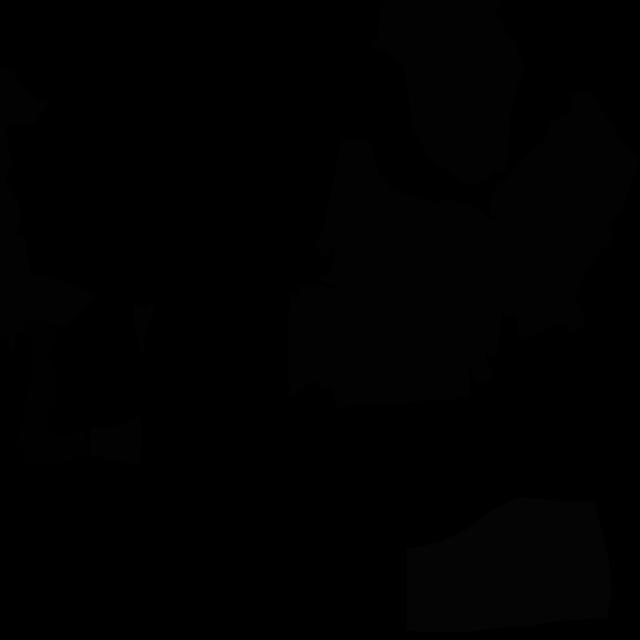cardboard: (316, 138, 505, 383), (369, 0, 524, 185), (0, 69, 94, 351), (489, 93, 640, 259), (288, 285, 470, 407), (500, 217, 613, 339), (88, 417, 141, 464), (133, 302, 154, 352)
rigid_plastic: (14, 318, 89, 467)
soft_plastic: (406, 497, 612, 632)
